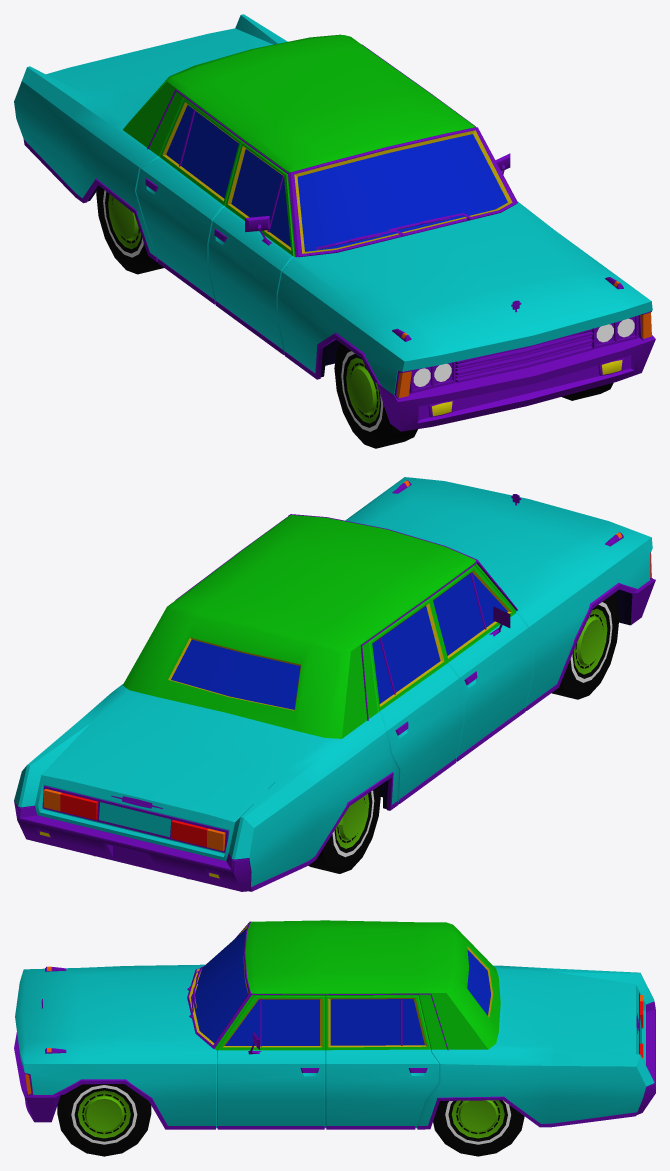
The model's file is Zil.fbx.
3 views of the same model, one above another, from view 1: azimuth 30°, elevation 25°; view 2: azimuth 150°, elevation 25°; view 3: azimuth 270°, elevation 25° (orthographic). The views are drawn at different scales.
Visible parts, largest first — view 1: Body, Wheel_FR, Wheel_RR; view 2: Body, Wheel_FR, Wheel_RR; view 3: Body, Wheel_FL, Wheel_RL.
Boxes of the visible parts, x1=… form: Body: x1=14, y1=14, x2=655, y2=431; Wheel_FR: x1=334, y1=343, x2=417, y2=448; Wheel_RR: x1=96, y1=186, x2=163, y2=274; Body: x1=14, y1=477, x2=655, y2=891; Wheel_FR: x1=551, y1=594, x2=619, y2=699; Wheel_RR: x1=308, y1=786, x2=380, y2=873; Body: x1=14, y1=920, x2=655, y2=1129; Wheel_FL: x1=57, y1=1084, x2=151, y2=1156; Wheel_RL: x1=433, y1=1100, x2=524, y2=1156.
Bounding box in the file's own units: 210 × 159 × 561.
